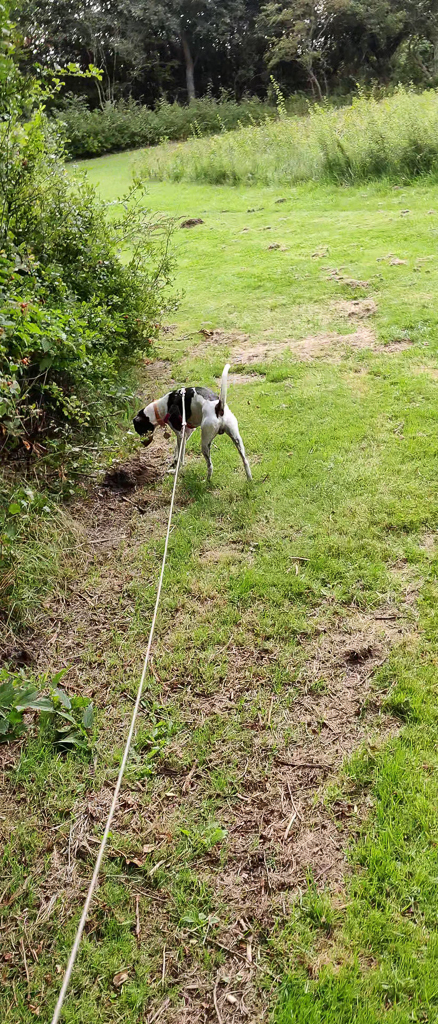Dog: (126, 359, 265, 491)
